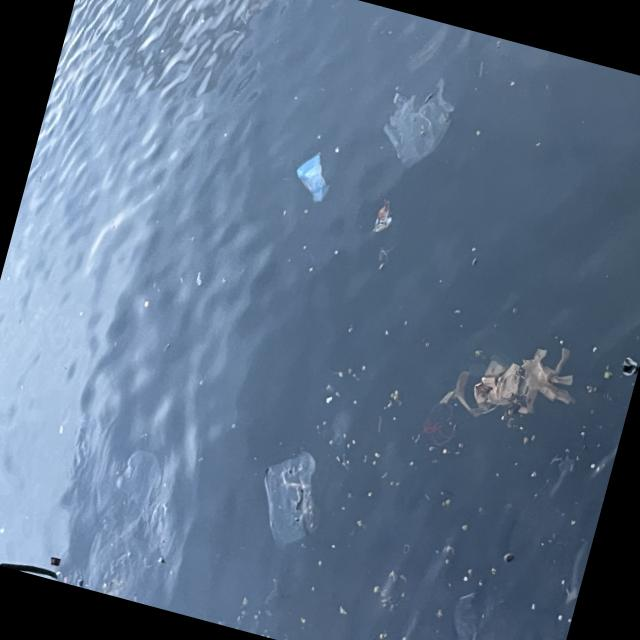plastic bottle: (437, 323, 578, 438), (372, 70, 464, 179), (249, 446, 330, 548), (438, 587, 499, 640), (288, 147, 337, 205)
unknow: (369, 198, 396, 234)
